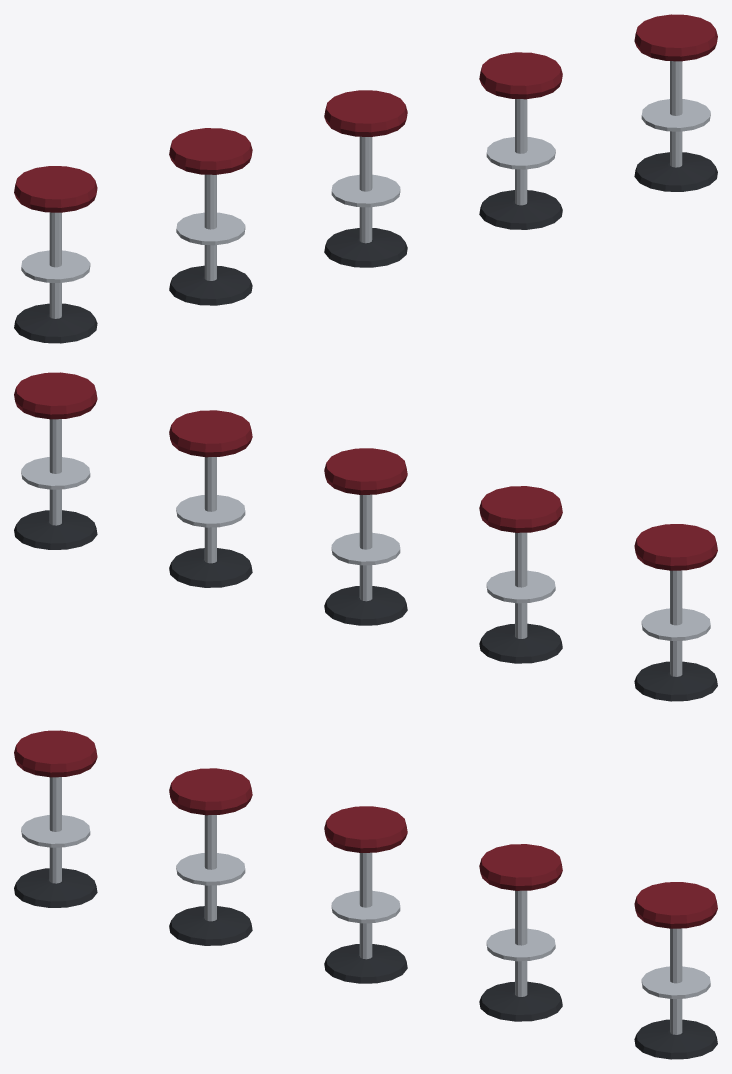
Rendered from bar_stools.glb.
3 renders of one model, top to bottom at view 1: azimuth 30°, elevation 25°; view 2: azimuth 150°, elevation 25°; view 3: azimuth 330°, elevation 25°, orthographic.
Visible parts, largest first — view 1: bar_stools; view 2: bar_stools; view 3: bar_stools.
Boxes of the visible parts, x1,y1,x2,y2 form: bar_stools: [14, 14, 717, 343]; bar_stools: [14, 372, 717, 701]; bar_stools: [14, 730, 717, 1059].
Bounding box in the file's own units: 3.8 × 0.75 × 0.4.
